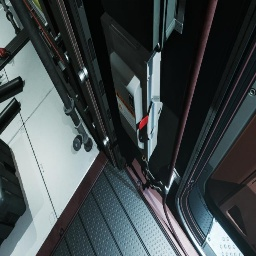0: (0, 74, 4, 80)
FireExtinguisher ]: (0, 48, 10, 58)
SafetySwitchPanel ,: (100, 12, 164, 162)
